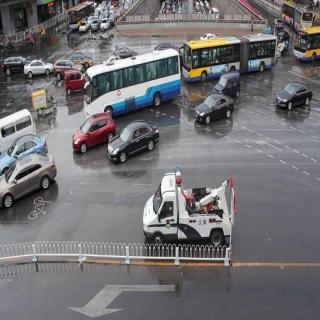BigCar: (82, 53, 184, 119)
Car: (144, 166, 232, 262), (179, 33, 274, 77), (2, 162, 54, 208), (0, 108, 49, 147), (106, 127, 159, 160), (191, 89, 234, 128), (278, 79, 310, 117), (72, 121, 112, 149), (26, 57, 53, 84), (65, 70, 87, 102), (2, 59, 26, 80), (279, 26, 290, 57)
